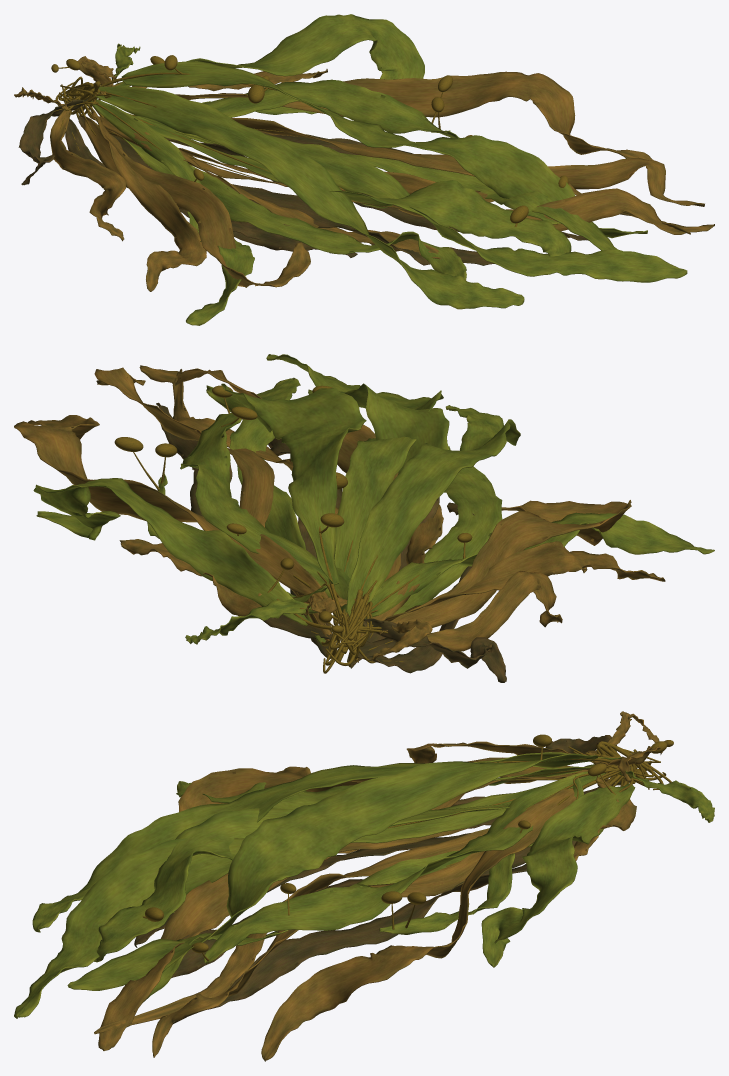
File: Seaweed_BAG.glb
3 views of the same model, one above another, from view 1: azimuth 30°, elevation 25°; view 2: azimuth 150°, elevation 25°; view 3: azimuth 270°, elevation 25° (orthographic). The views are drawn at different scales.
Parts seen in each view (by area): view 1: seaweed.fronds.olive, seaweed.fronds.amber, seaweed.fronds.dark, seaweed.stipes; view 2: seaweed.fronds.olive, seaweed.fronds.amber, seaweed.fronds.dark, seaweed.stipes; view 3: seaweed.fronds.olive, seaweed.fronds.amber, seaweed.fronds.dark, seaweed.stipes.
Boxes of the visible parts, x1,y1,x2,y2 form: seaweed.fronds.olive: [91, 14, 687, 325]; seaweed.fronds.amber: [14, 56, 714, 291]; seaweed.fronds.dark: [18, 98, 630, 265]; seaweed.stipes: [48, 62, 517, 226]; seaweed.fronds.olive: [33, 354, 714, 645]; seaweed.fronds.amber: [14, 365, 665, 662]; seaweed.fronds.dark: [156, 402, 506, 682]; seaweed.stipes: [133, 397, 465, 673]; seaweed.fronds.olive: [14, 752, 714, 1018]; seaweed.fronds.amber: [94, 711, 662, 1061]; seaweed.fronds.dark: [125, 735, 620, 1023]; seaweed.stipes: [143, 741, 671, 961].
Size of the model in its own units: 0.3221 by 0.0702 by 0.3378.
4 materials, 4 textured.
